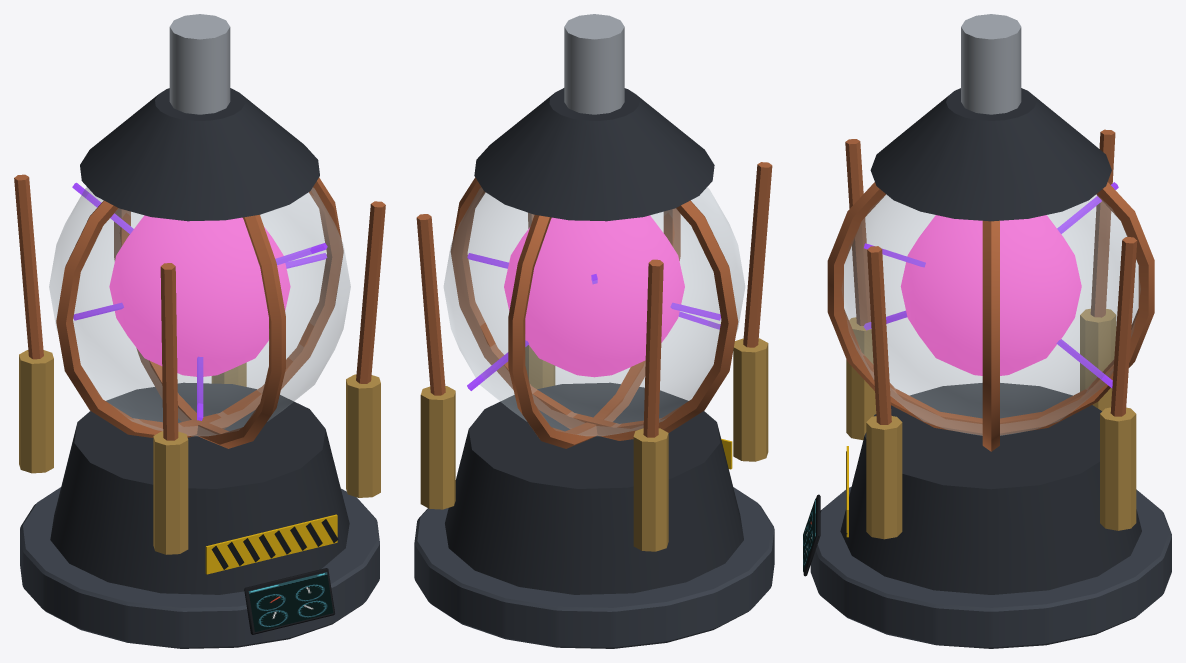
File: particle_plasma_chamber.glb
3 renders of one model, left to right at view 1: azimuth 30°, elevation 25°; view 2: azimuth 150°, elevation 25°; view 3: azimuth 270°, elevation 25°, orthographic.
Visible parts, largest first — view 1: particle_plasma_chamber; view 2: particle_plasma_chamber; view 3: particle_plasma_chamber.
Part boxes in pixels (x1,y1,x2,y2): particle_plasma_chamber: [14, 14, 385, 648]; particle_plasma_chamber: [414, 14, 774, 648]; particle_plasma_chamber: [803, 14, 1171, 648].
Size of the model in its own units: 1.2 by 2 by 1.22.
Materials: 12 (1 with a texture image).
